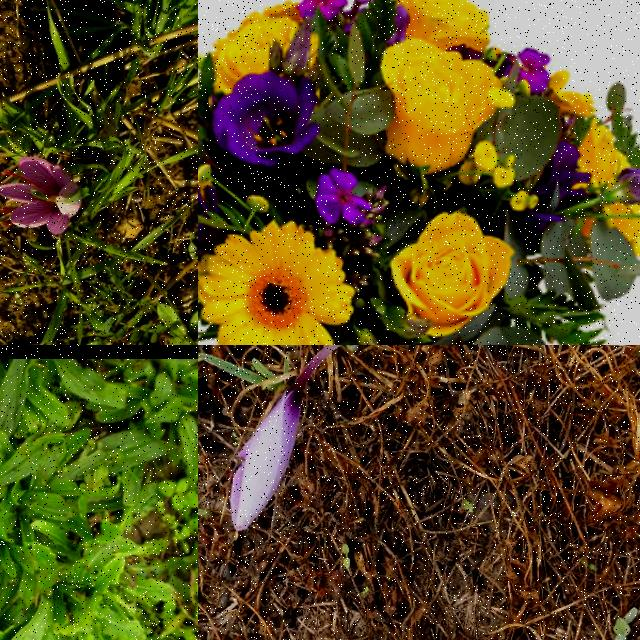flower: (230, 378, 304, 532), (0, 157, 82, 235)
